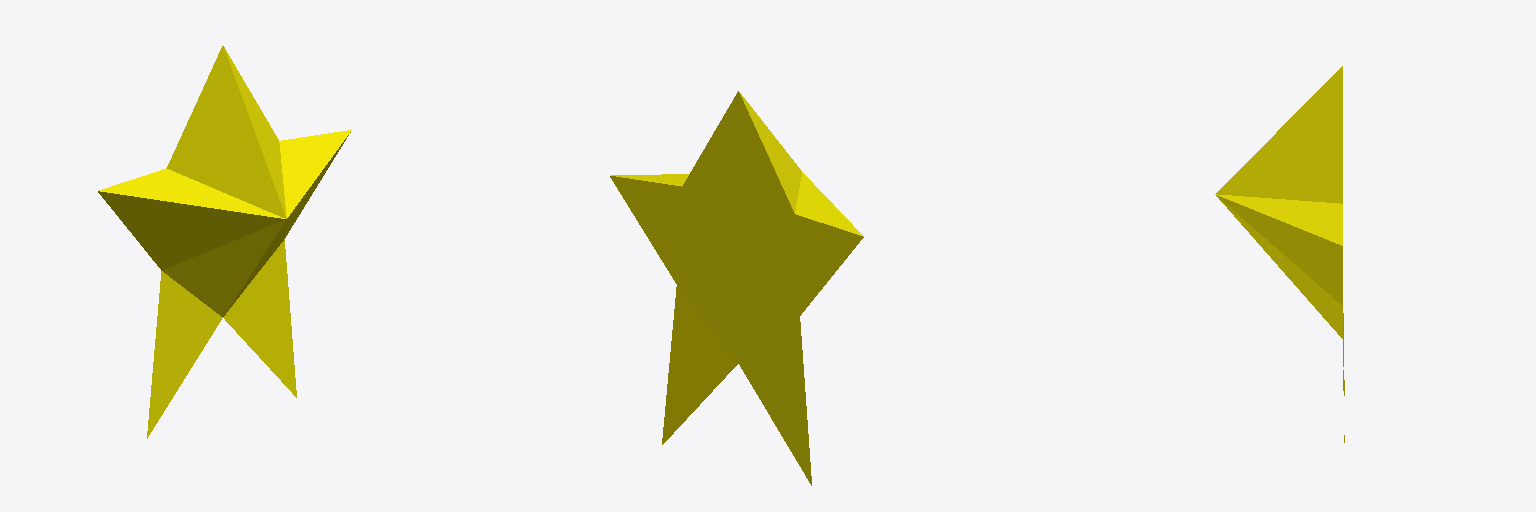
The picture shows the model from 3 angles: view 1: azimuth 30°, elevation 25°; view 2: azimuth 150°, elevation 25°; view 3: azimuth 270°, elevation 25°; orthographic projection.
Visible parts, largest first — view 1: Cube; view 2: Cube; view 3: Cube.
Boxes of the visible parts, x1=… form: Cube: x1=98, y1=46, x2=351, y2=438; Cube: x1=610, y1=91, x2=863, y2=485; Cube: x1=1215, y1=66, x2=1344, y2=442.
Size of the model in its own units: 1.99 by 2.82 by 0.8804.
1 materials, 1 textured.